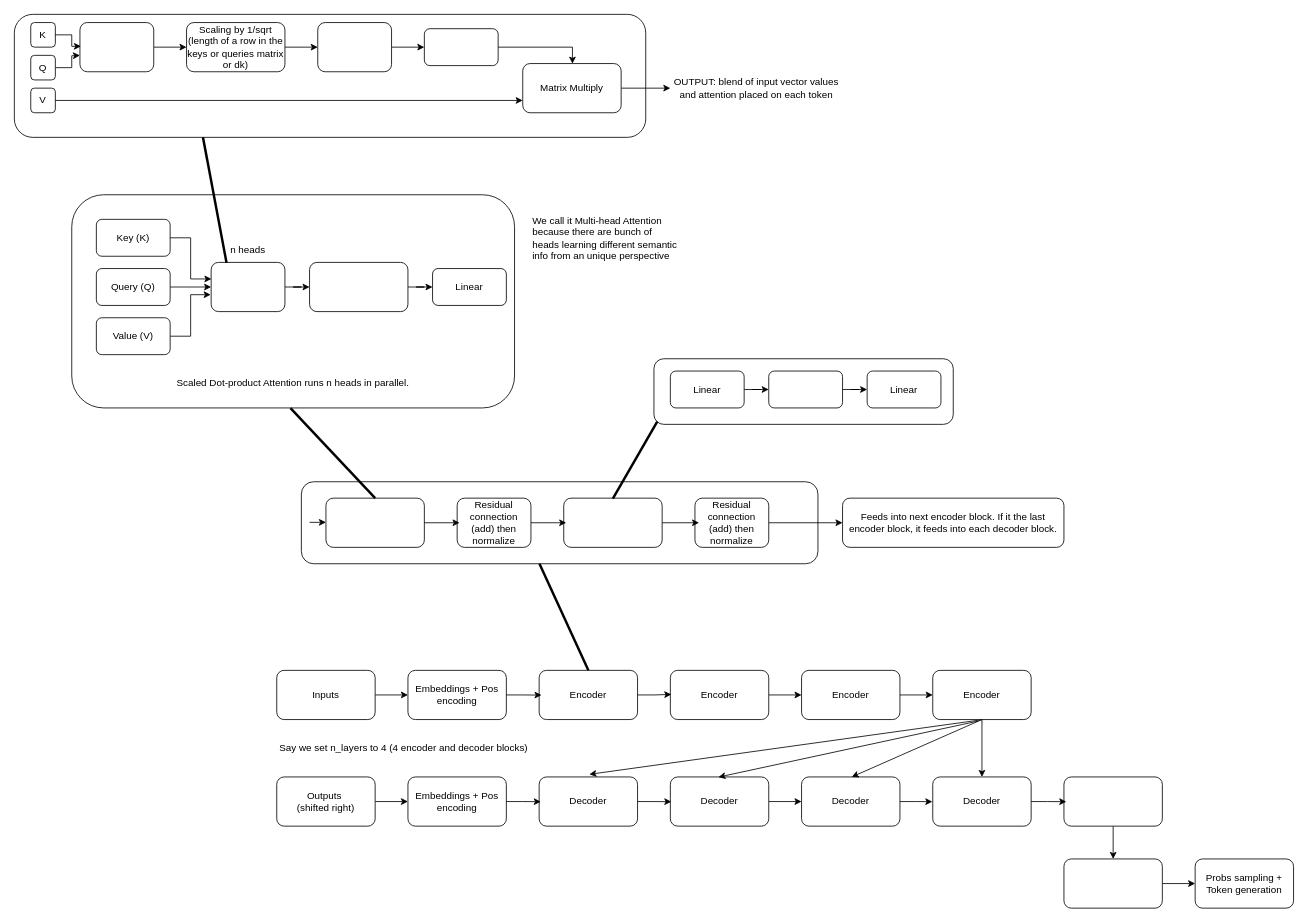
Some shapes in this 1308 by 923 pixel diagram are drawn without their labels. The centre of each missing label's shape, as x and y in pixels:
"Concentrate results" goes at (358,287).
"Dot-product (K, Q)" goes at (116,47).
"Feed forward" goes at (612,522).
"Multi-head Attention" goes at (374,522).
"nn.Linear" goes at (1112,801).
"ReLU" goes at (805,389).
"Scaled Dot-product Attention" goes at (247,287).
"Softmax" goes at (461,47).
"Softmax (probs to sample from)" goes at (1112,883).
"torch.tril masking (sometimes)" goes at (354,47).
